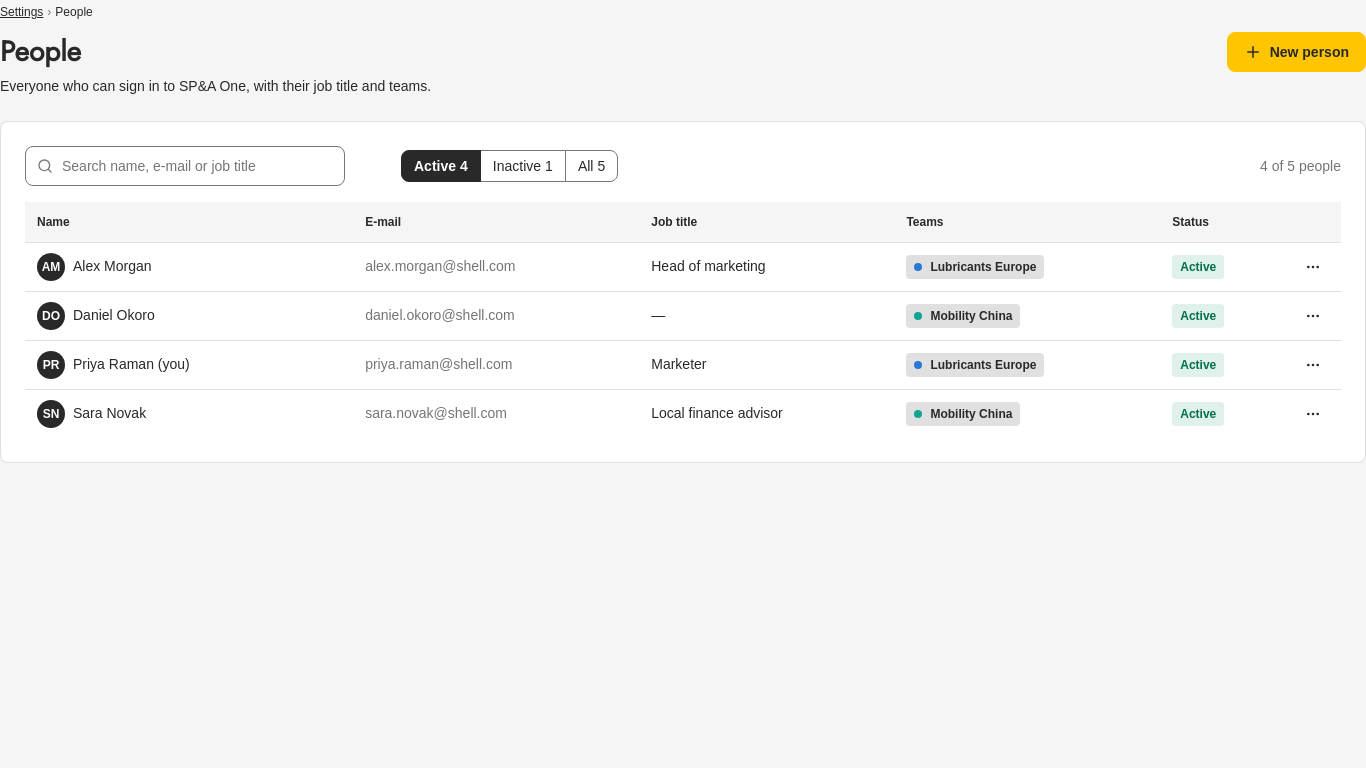
017 FR-016: the line manager on Settings › People › changes Priya’s line manager, sending only that change
This screenshot has width=1366, height=768.
Click the button named "Actions for Priya Raman" at point(1313, 364), box [1297,348,1329,380]
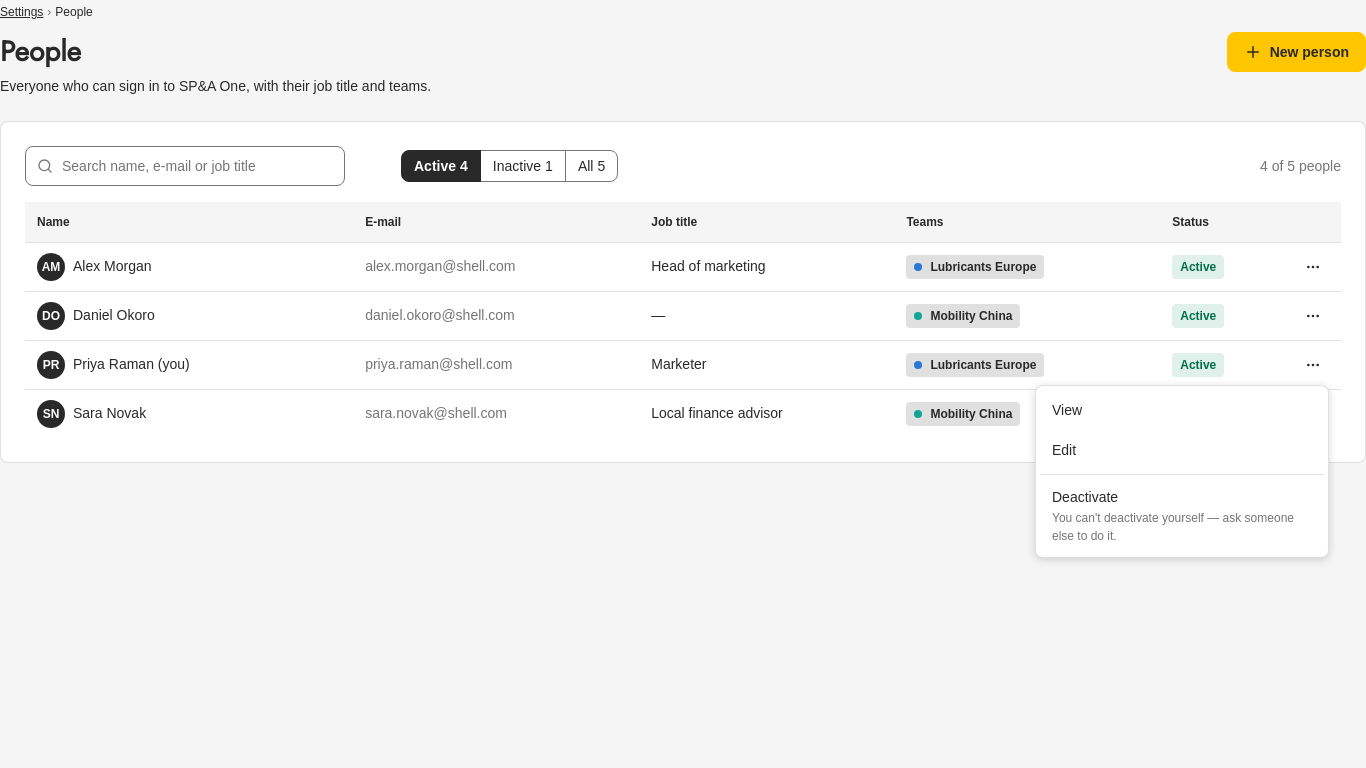
Click the menu item "Edit" at point(1064, 450), box [1052,442,1076,458]
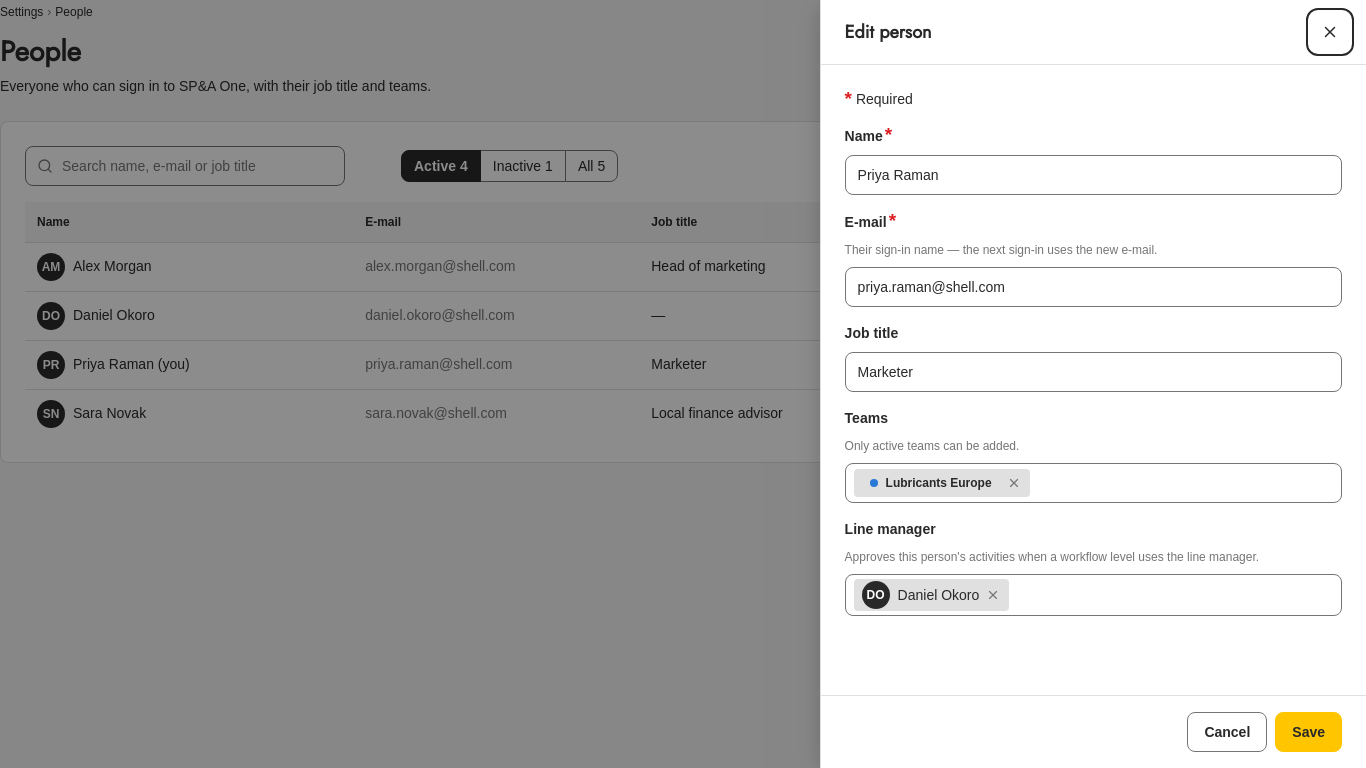
Expected: the text "Approves this person's activities when a workflow level uses the line manager." is shown, [845,550,1259,564]
Click the button named "Remove Daniel Okoro" at point(993, 595), box [981,583,1005,607]
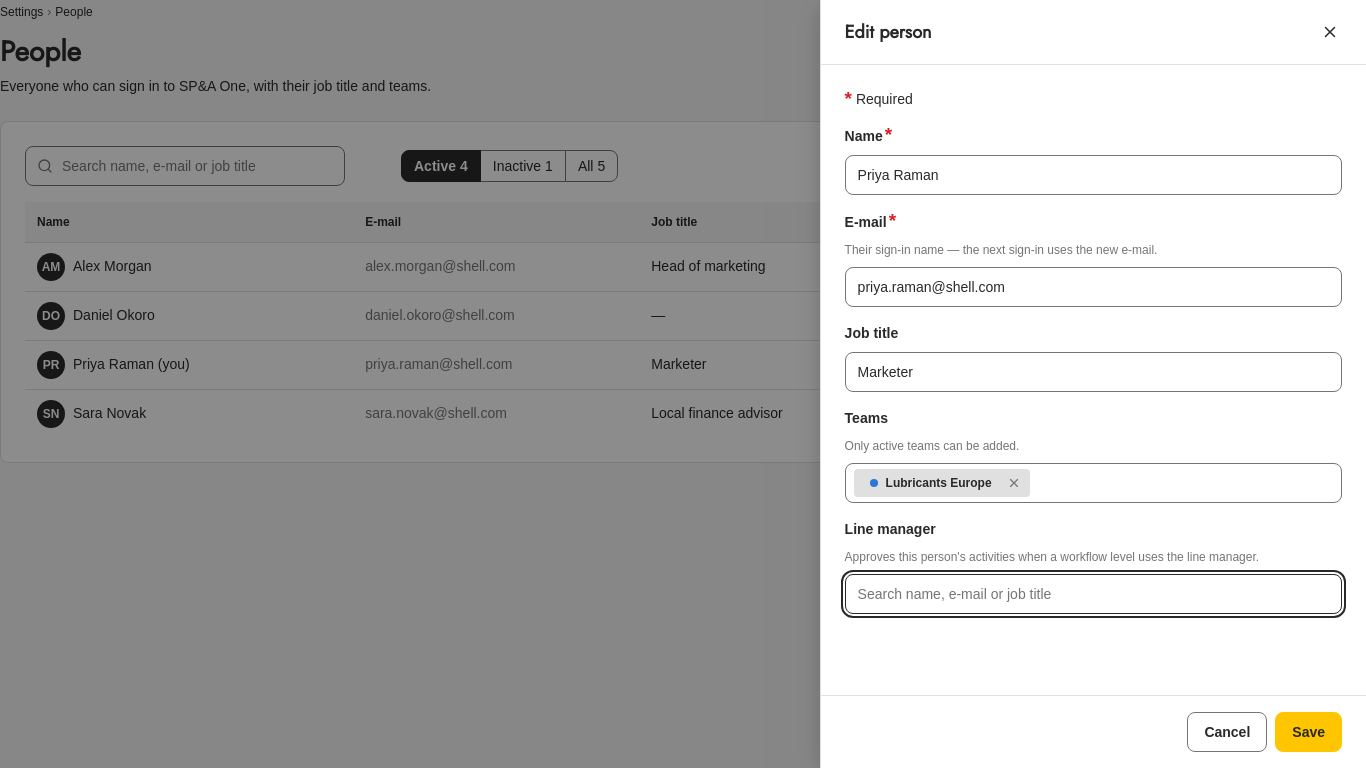
Type "Alex" into the dropdown labelled "Line manager" at point(1093, 594), box [854,580,1333,608]
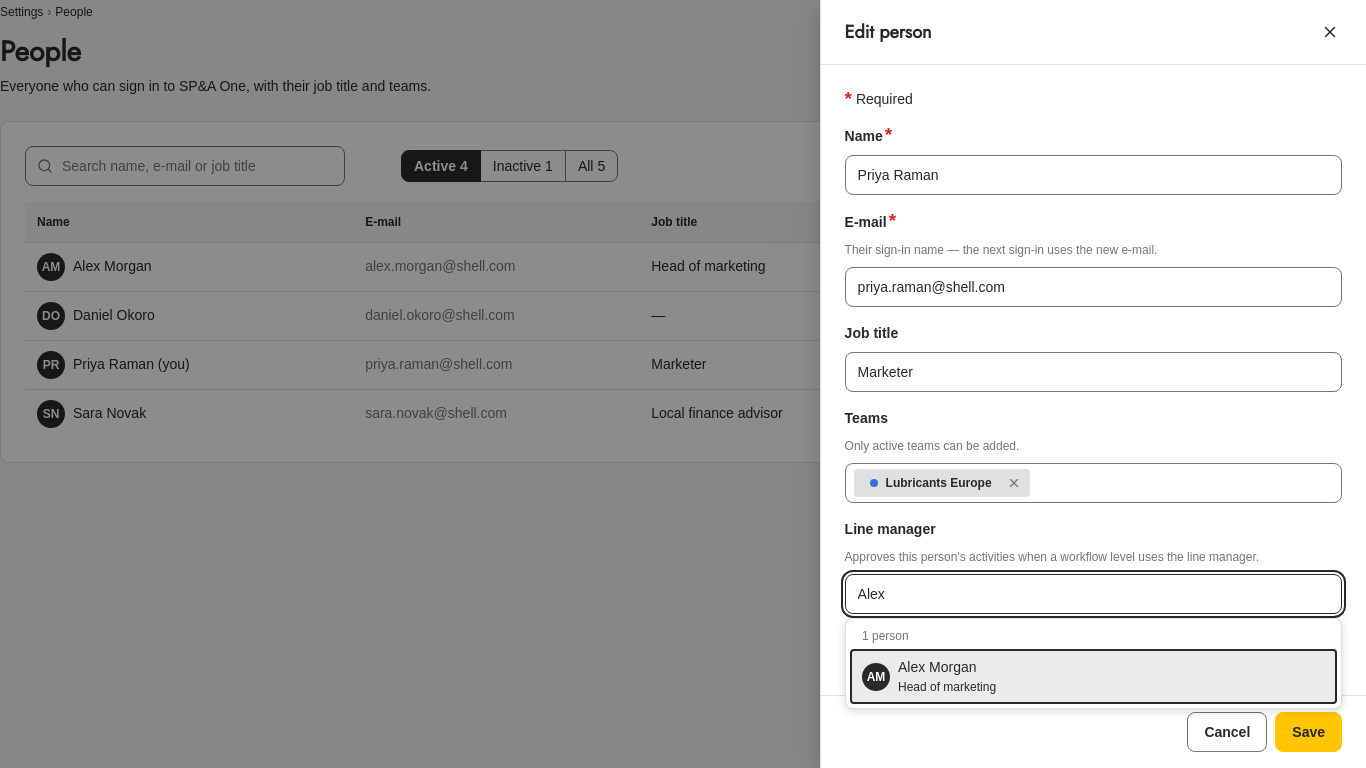
Click the option "AM Alex Morgan Head of marketing" at point(937, 667), box [850,649,1337,704]
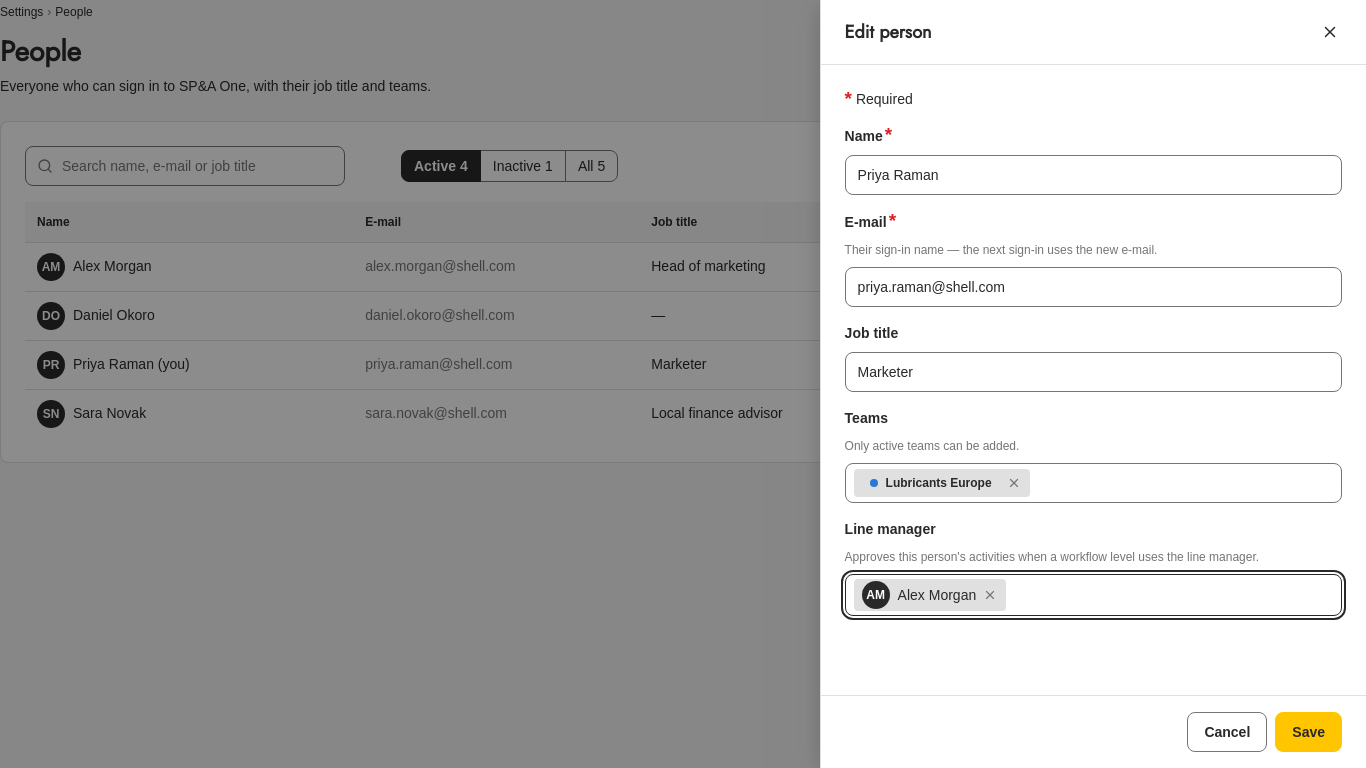
Click the button "Save" at point(1309, 732), box [1275,712,1342,752]
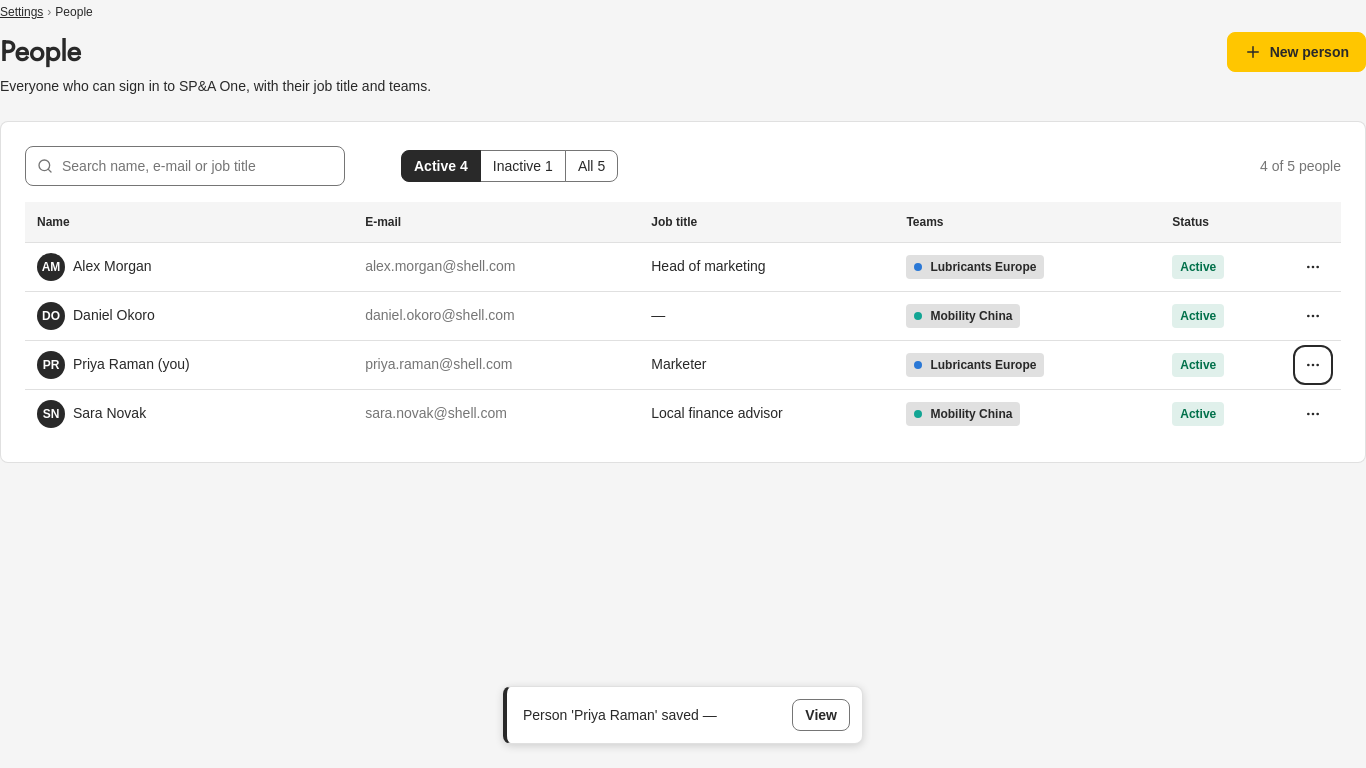
Expected: the text "Person 'Priya Raman' saved" is shown, [523,706,703,722]
